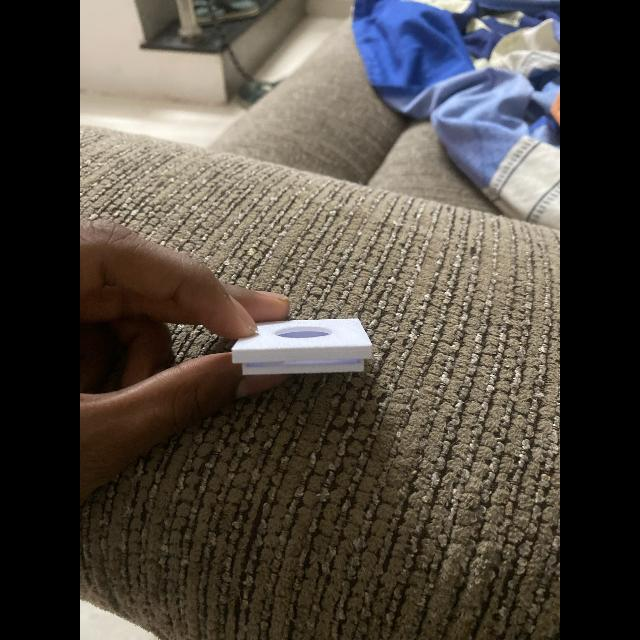RASPBERY PI CAM ENCLOSURE: (232, 318, 372, 376)
